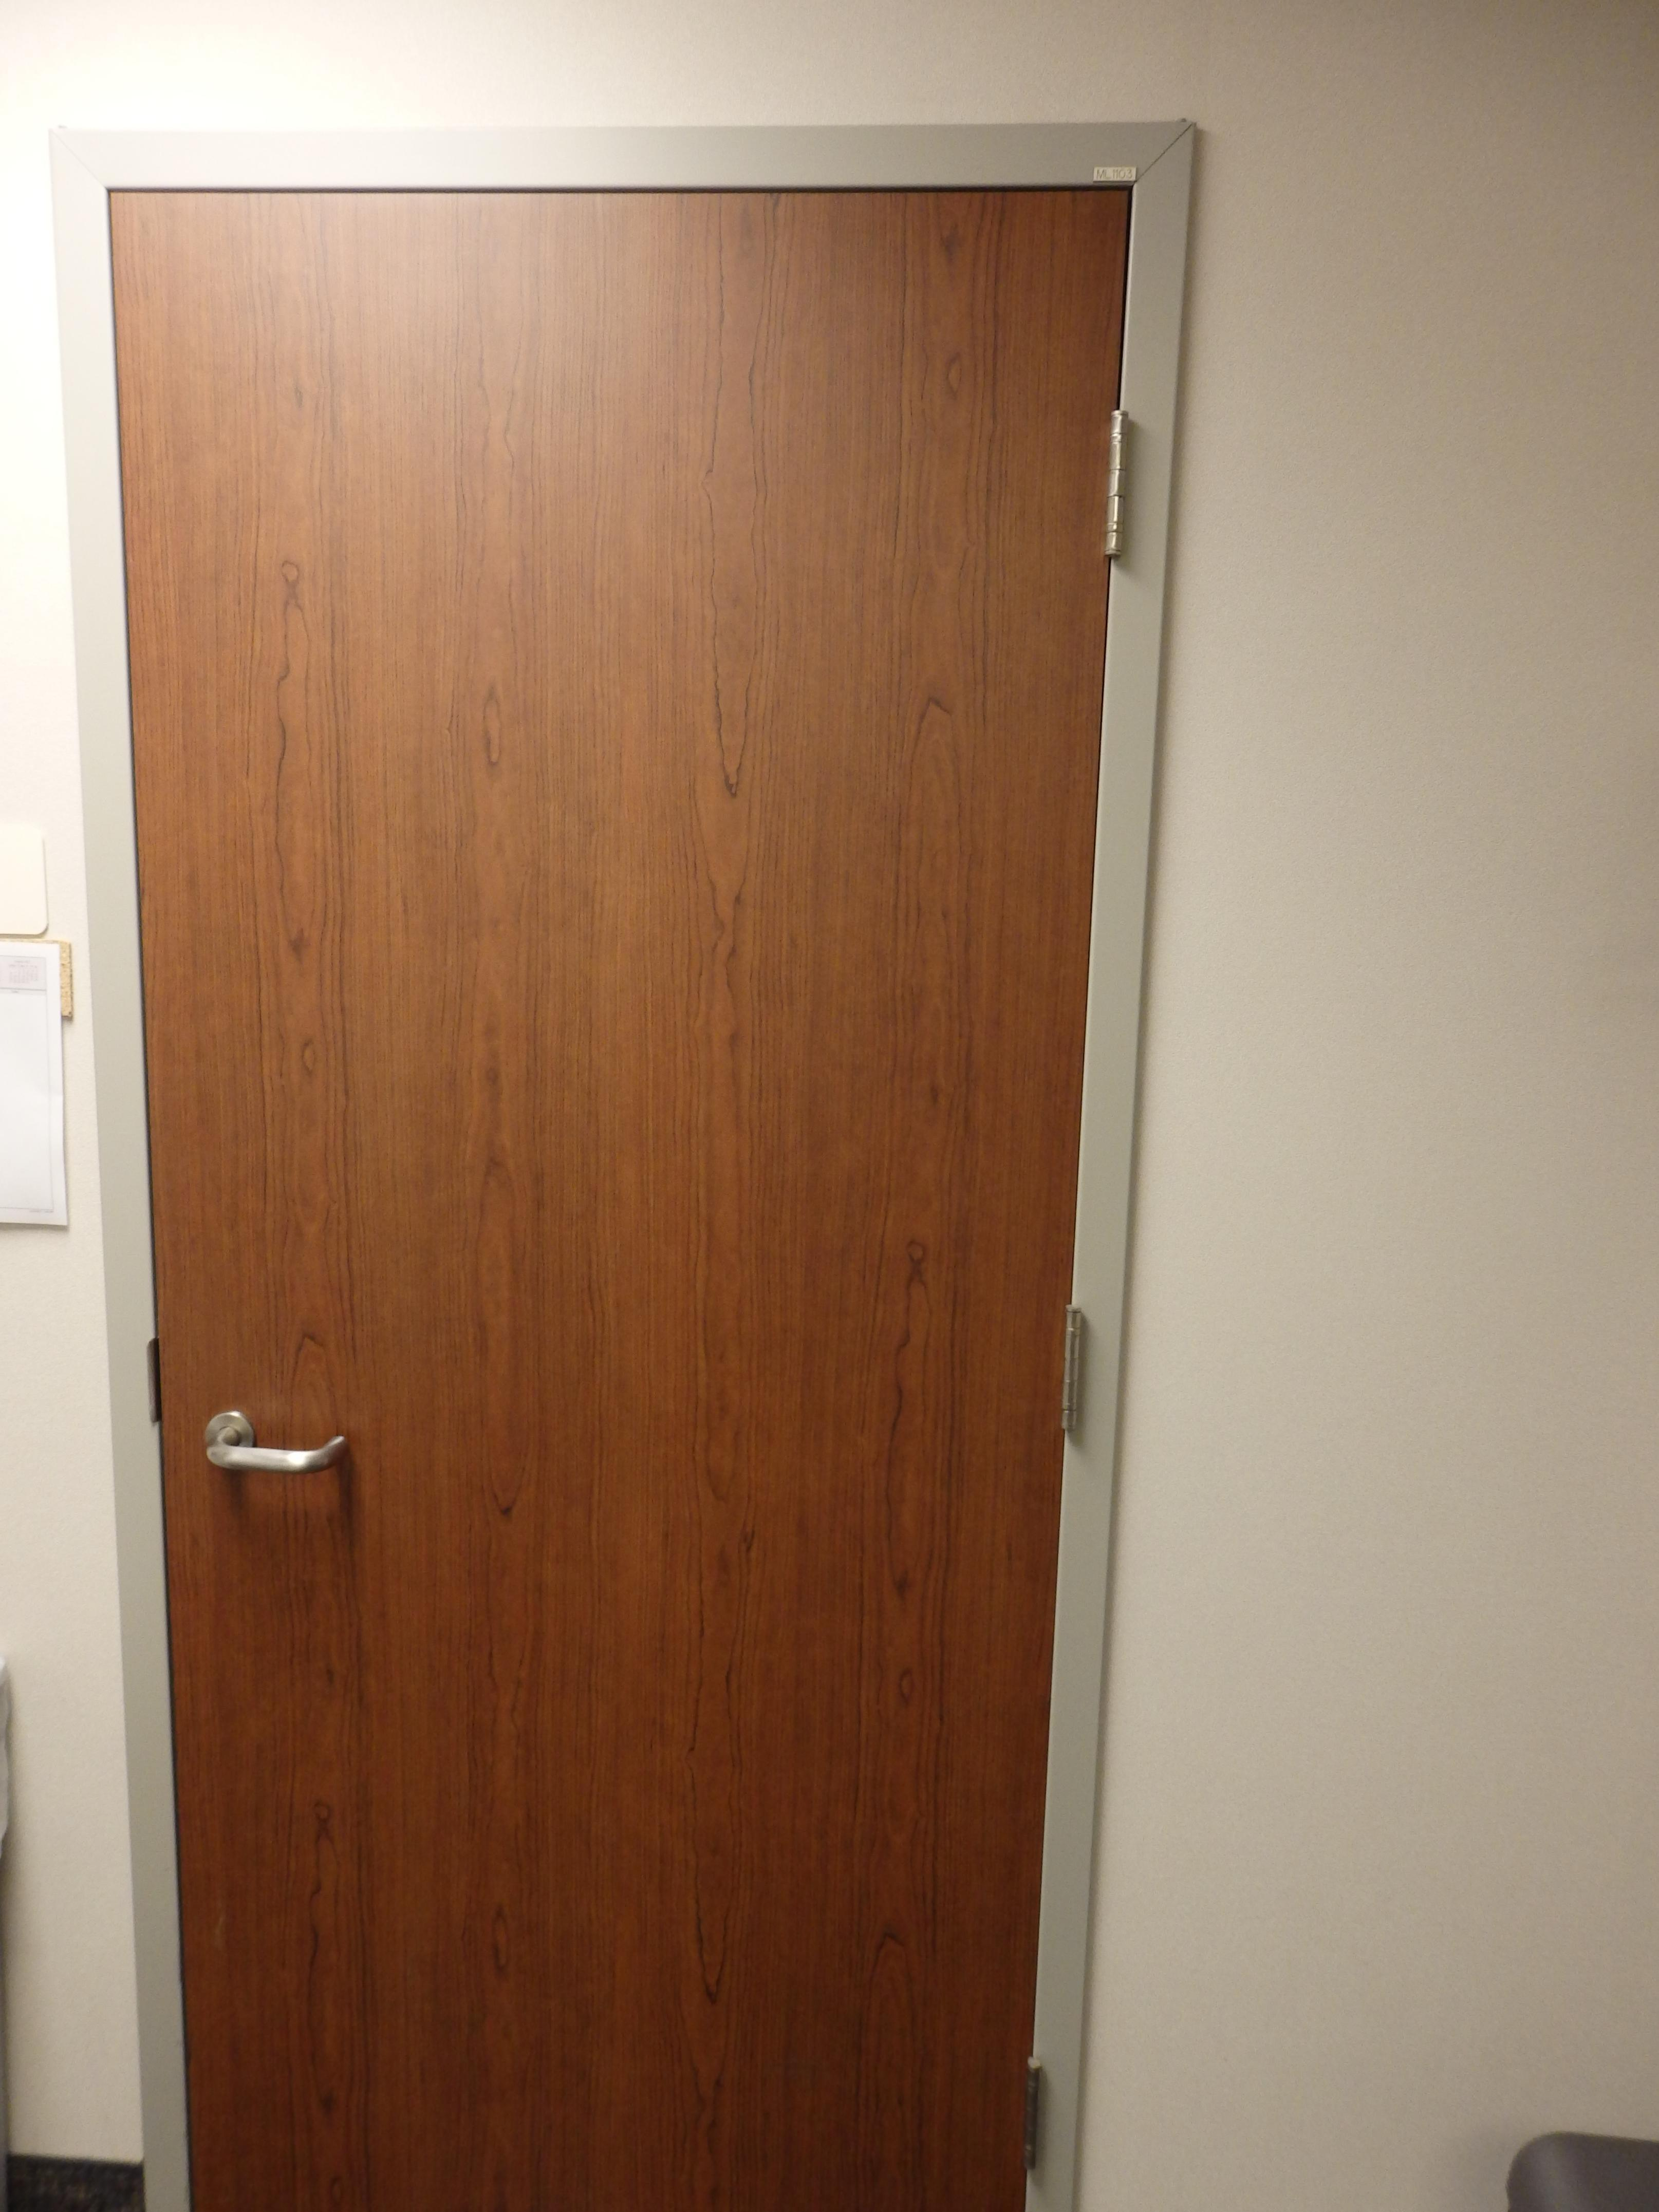door: (122, 212, 1039, 2212)
handle: (195, 1404, 355, 1500)
